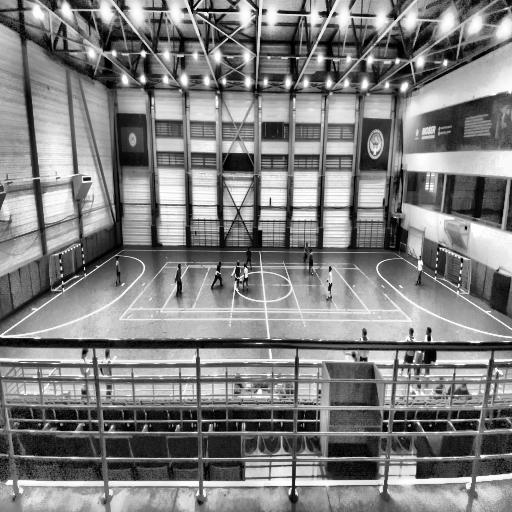ball: (240, 277, 243, 285)
player: (210, 262, 224, 291), (174, 262, 184, 298), (325, 265, 334, 303), (415, 254, 424, 287), (115, 254, 123, 288), (232, 260, 242, 287), (242, 262, 250, 295), (245, 244, 253, 271), (308, 248, 315, 277), (302, 241, 309, 264)
